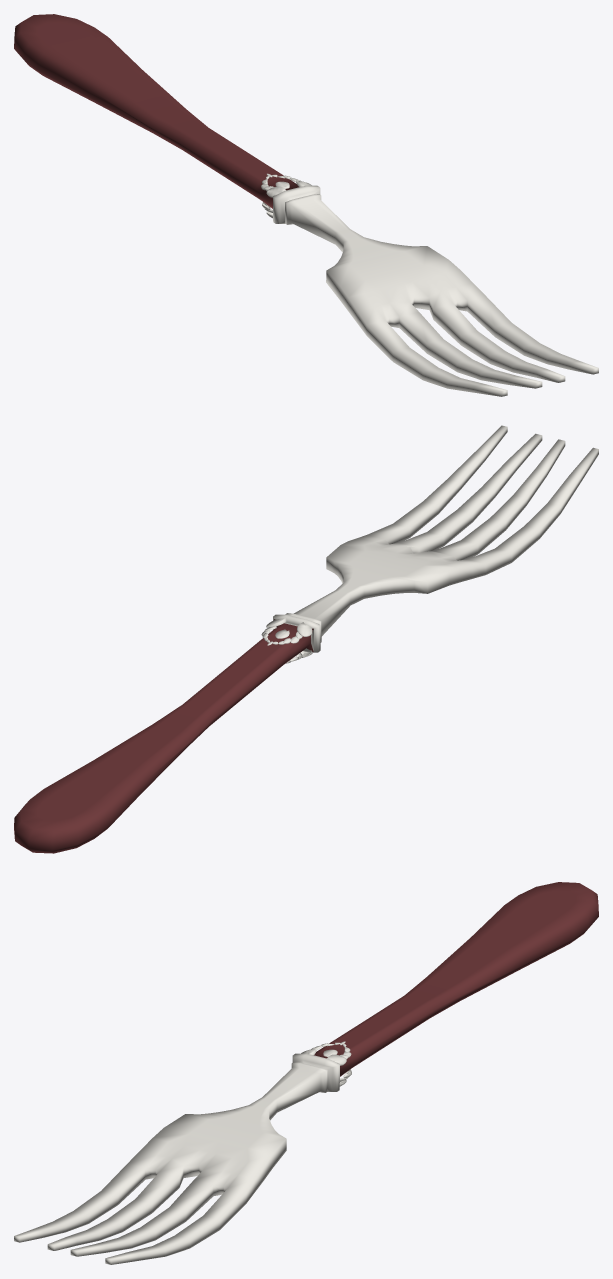
File: fork_a001.fbx
3 views of the same model, one above another, from view 1: azimuth 30°, elevation 25°; view 2: azimuth 150°, elevation 25°; view 3: azimuth 330°, elevation 25° (orthographic).
Visible parts, largest first — view 1: Cylinder.001; view 2: Cylinder.001; view 3: Cylinder.001.
Boxes of the visible parts, x1,y1,x2,y2 form: Cylinder.001: [14, 14, 598, 396]; Cylinder.001: [14, 425, 598, 853]; Cylinder.001: [14, 882, 598, 1264].
Size of the model in its own units: 2.78 by 0.9872 by 21.09.
